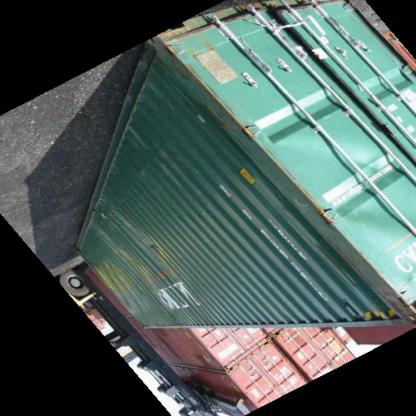Damage: (288, 197, 412, 323), (155, 32, 255, 158), (93, 236, 203, 299)
